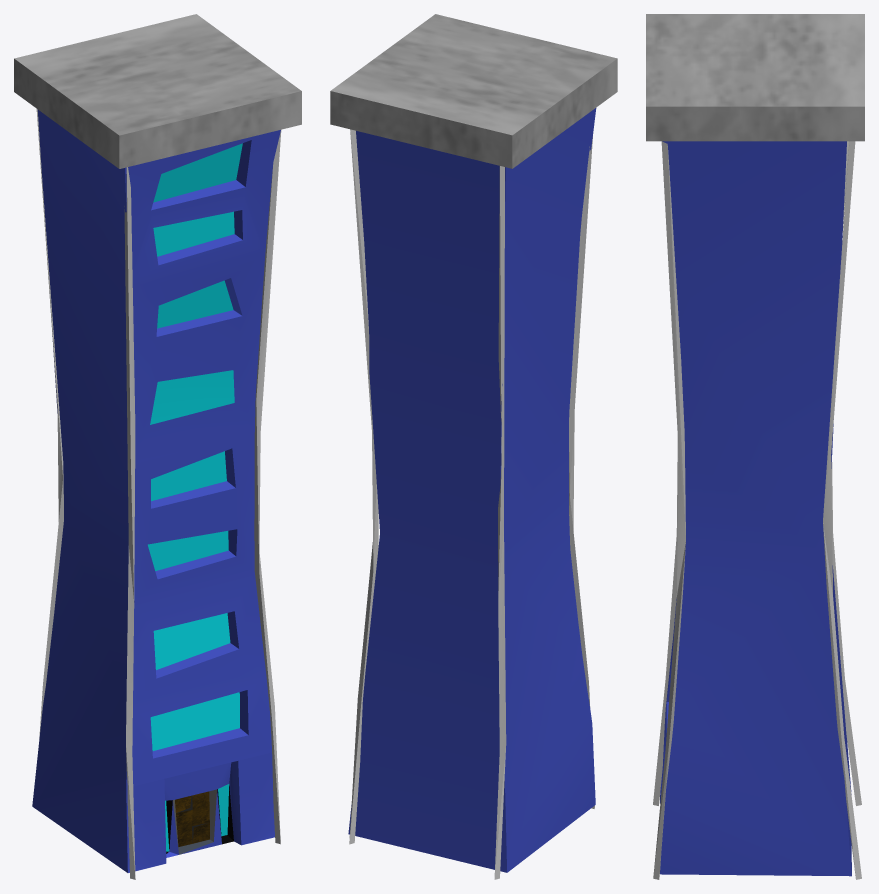
The model's file is PredioAltoFino-AzulLOD1.fbx.
3 renders of one model, left to right at view 1: azimuth 30°, elevation 25°; view 2: azimuth 150°, elevation 25°; view 3: azimuth 270°, elevation 25°, orthographic. The views are drawn at different scales.
Visible parts, largest first — view 1: PredioAltoFinoLOD1; view 2: PredioAltoFinoLOD1; view 3: PredioAltoFinoLOD1.
Part boxes in pixels (left/top/right/bottom): PredioAltoFinoLOD1: left=14, top=14, right=301, bottom=879; PredioAltoFinoLOD1: left=330, top=14, right=617, bottom=879; PredioAltoFinoLOD1: left=646, top=14, right=864, bottom=879.
Size of the model in its own units: 635 by 2498 by 635.
